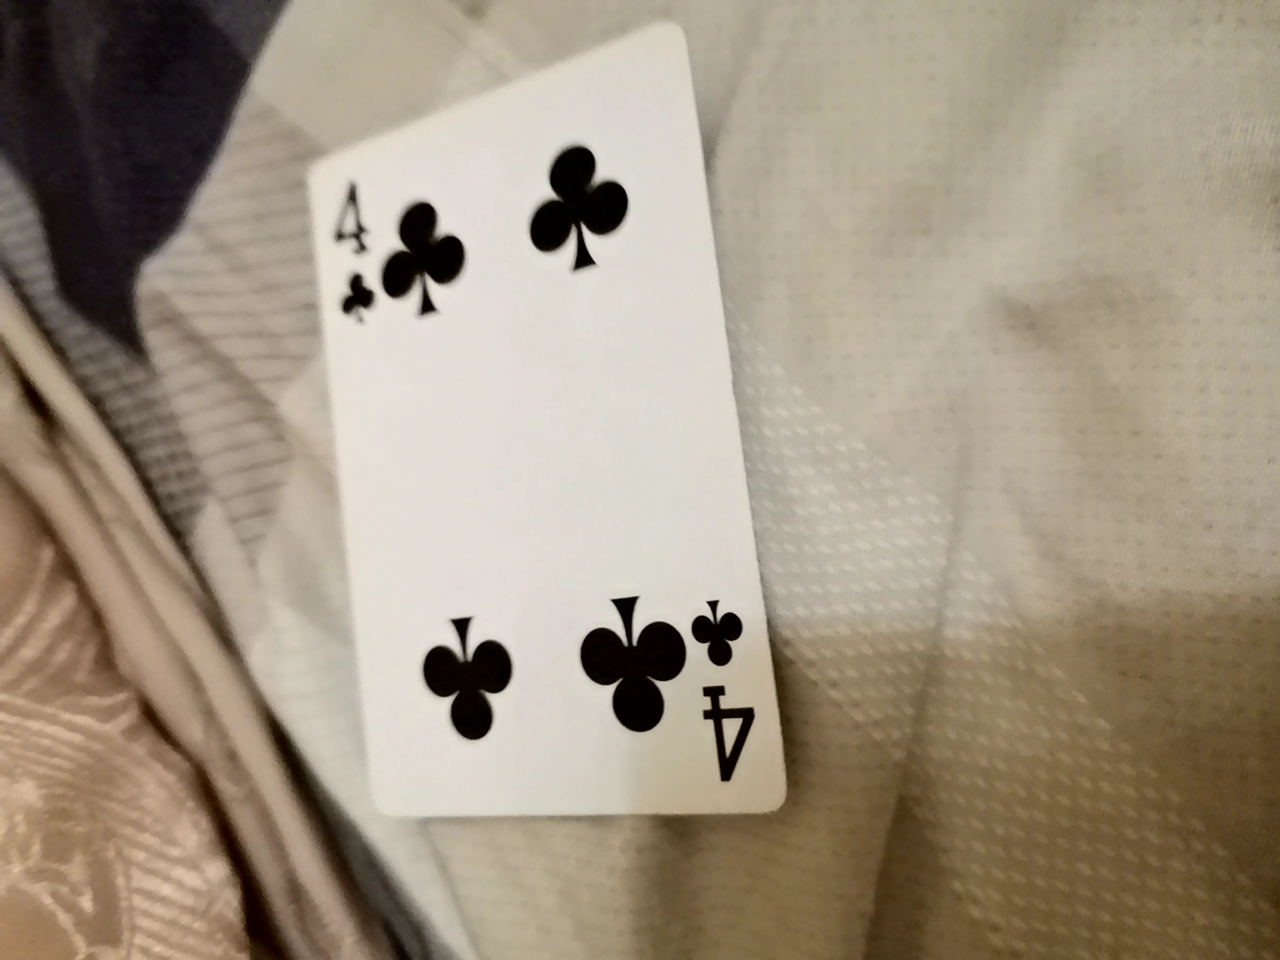mh 4: (317, 32, 794, 856)
